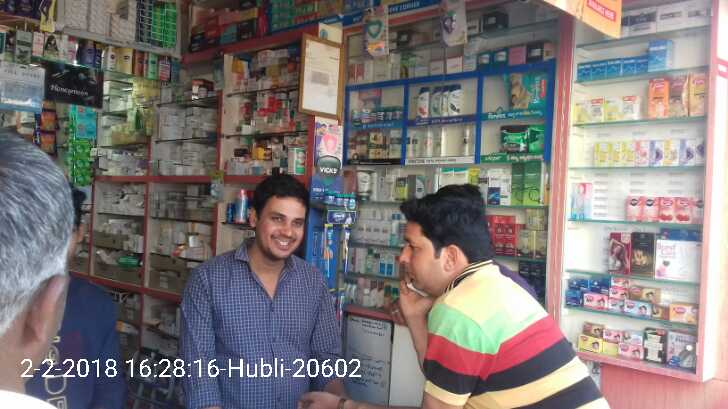beauty: (448, 84, 463, 115), (462, 124, 473, 157), (417, 86, 429, 116), (368, 132, 382, 157), (390, 130, 402, 157)
pharmacy: (508, 70, 548, 108), (500, 123, 529, 152), (528, 125, 543, 157)
